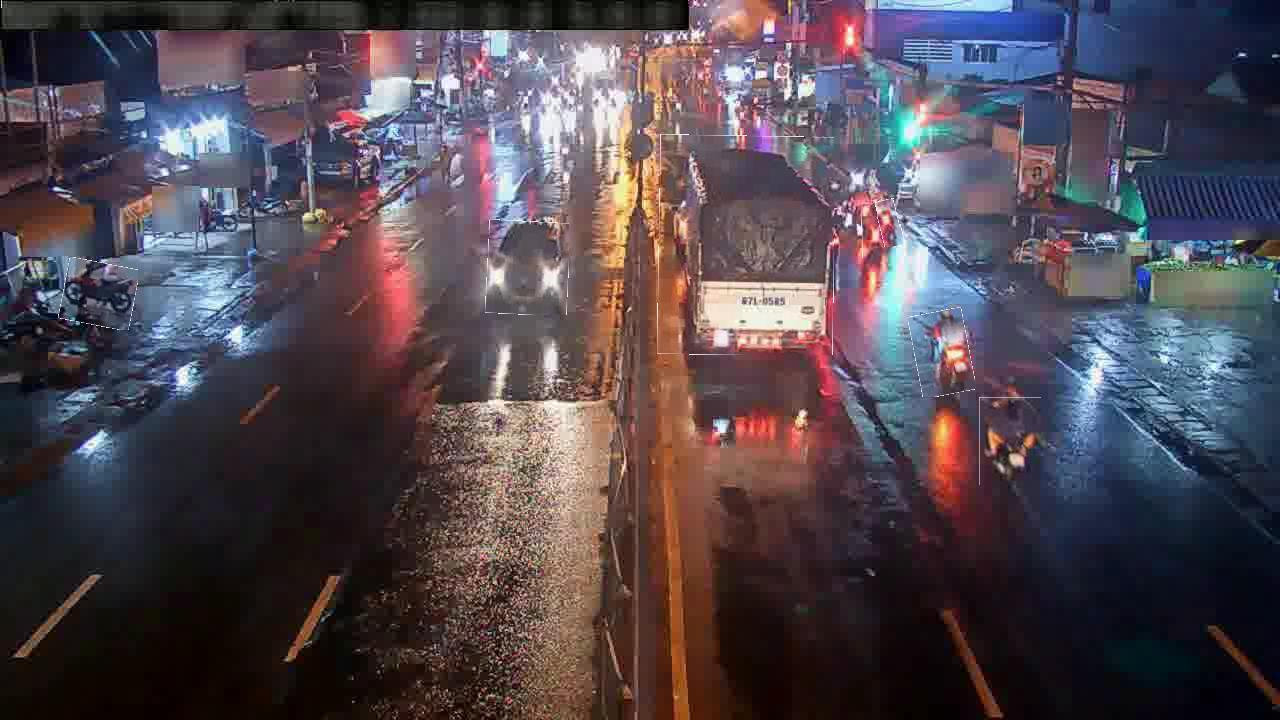8: (658, 135, 835, 356)
container: (486, 220, 569, 315)
motorbike: (979, 397, 1042, 486), (912, 309, 973, 396), (61, 260, 137, 328), (862, 203, 883, 259), (878, 199, 902, 248)
